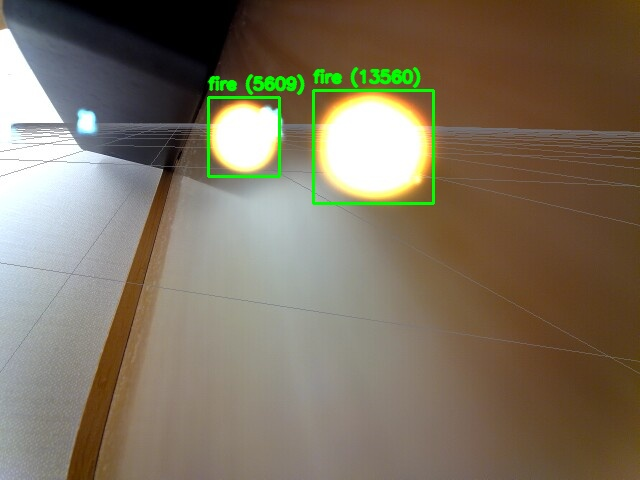fire: (313, 90, 433, 203), (208, 97, 279, 176)
